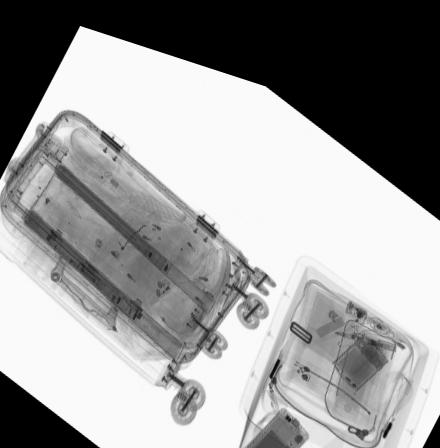Lighter: (140, 267, 173, 300)
